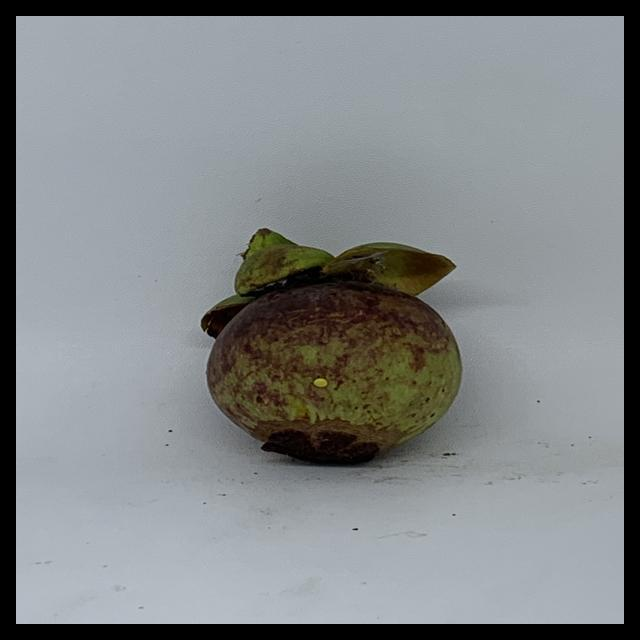mangosteen: (195, 218, 483, 468)
